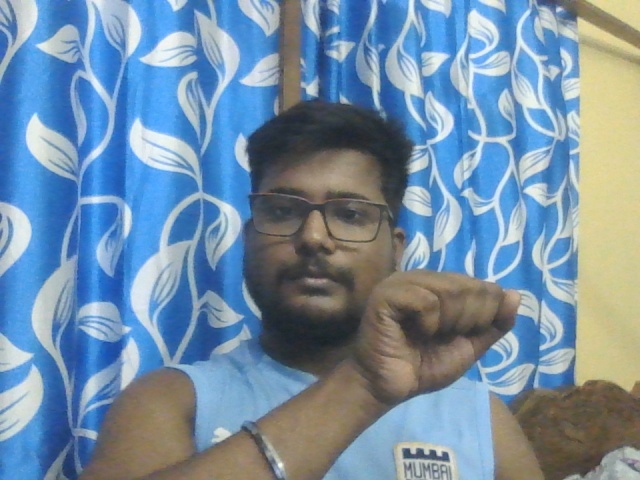A: (356, 271, 523, 399)
